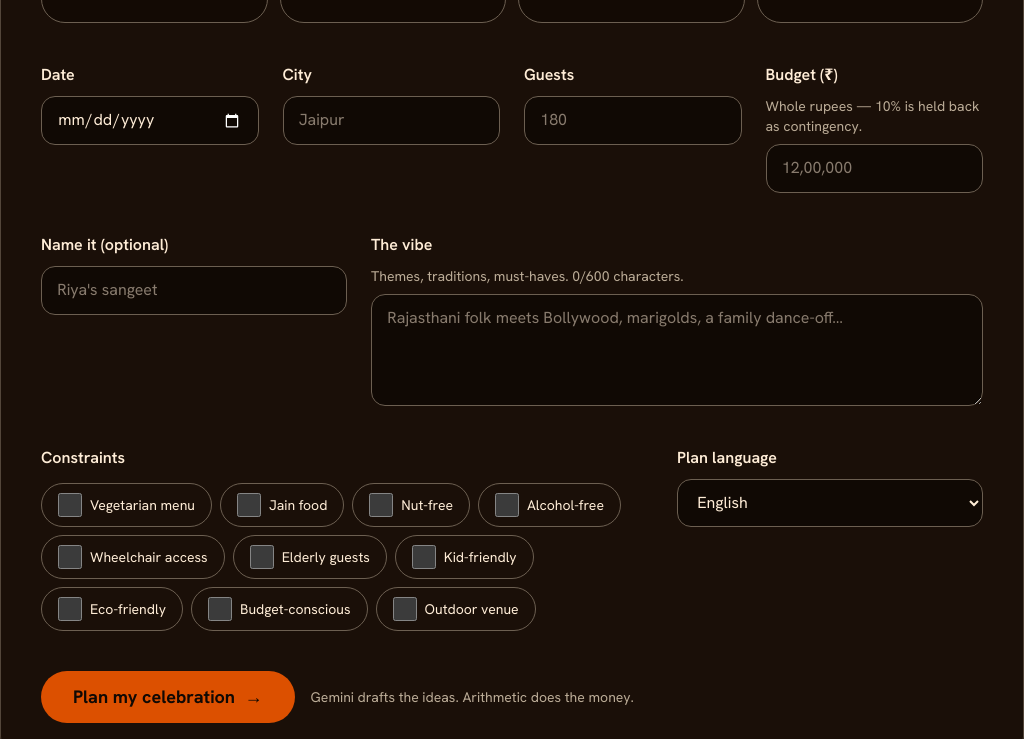
Scenario: PlannerApp › shows a focused error summary for an empty brief and makes no request
(page scrolled)
Step 1. Click the button "Plan my celebration →" → (168, 697), box x1=41 y1=671 x2=295 y2=723
(page scrolled)
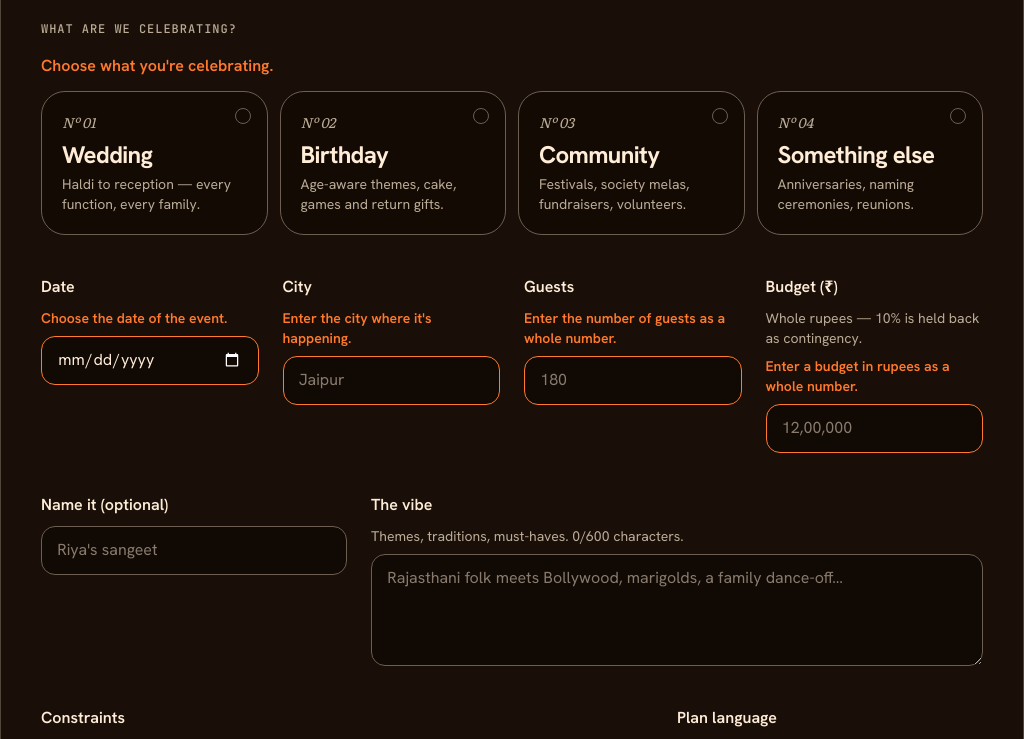
expect the field labelled "City" is marked as invalid: met, box x1=282 y1=356 x2=500 y2=405
